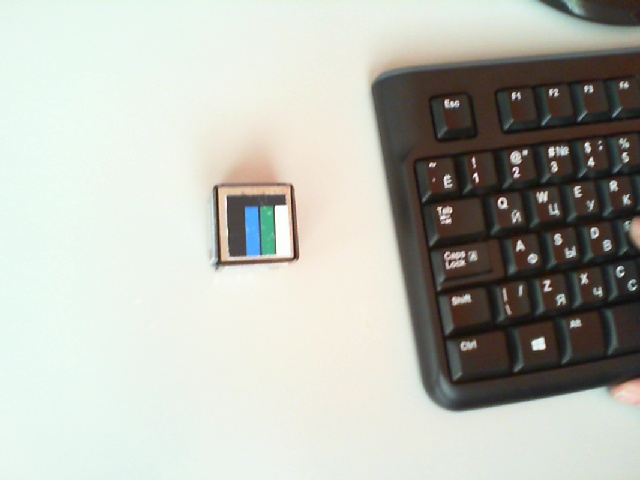square: (225, 194, 288, 255)
